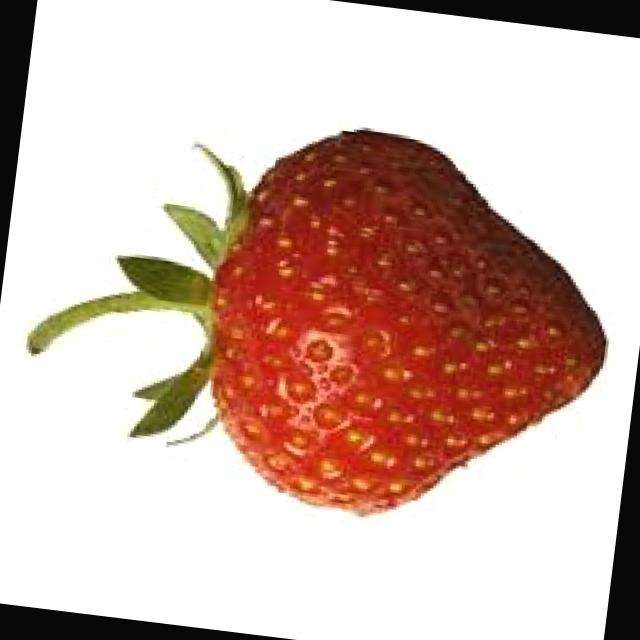strawberry: (0, 72, 639, 558)
